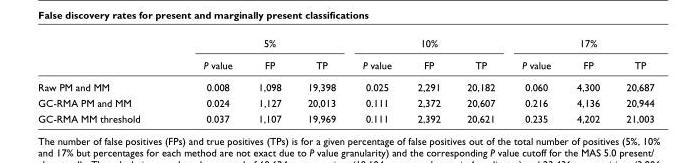table: (37, 36, 653, 124)
table column: (37, 36, 171, 124), (171, 36, 244, 124), (507, 36, 563, 124), (293, 36, 348, 124), (348, 36, 403, 124), (453, 36, 507, 124), (403, 36, 453, 124), (244, 36, 293, 124), (563, 36, 612, 124), (612, 36, 653, 124)
table column header: (37, 36, 653, 75)
table row: (37, 53, 653, 75), (37, 75, 653, 94), (37, 36, 653, 53), (37, 94, 653, 110), (37, 110, 653, 124)
table spanning cell: (171, 36, 348, 53), (348, 36, 507, 53), (507, 36, 653, 53)
